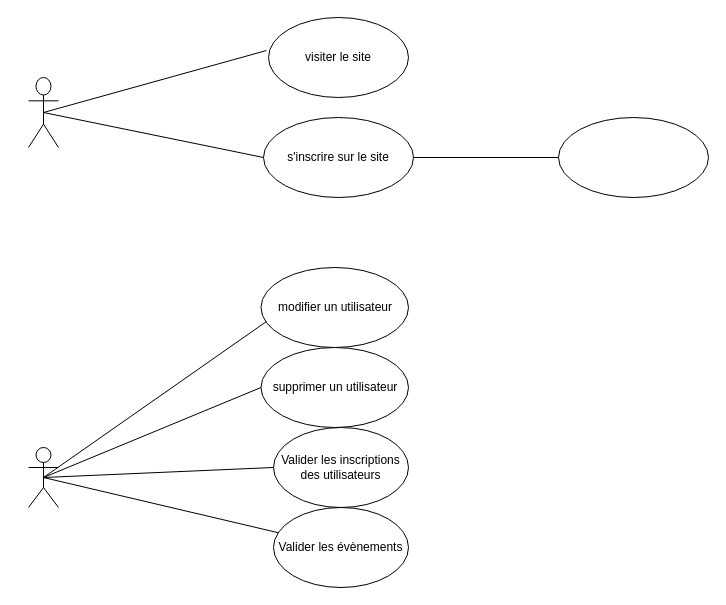
The diagram is 726 pixels wide and 605 high, and some of its shapes have lost their labels. The box of each missing label's shape, as (x1, y1, x2, y2) in pixels:
Admin: (28, 446, 58, 508)
Créer un évènement: (558, 116, 708, 198)
Utilisateur: (28, 76, 58, 148)
